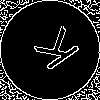K: (25, 25, 81, 78)
